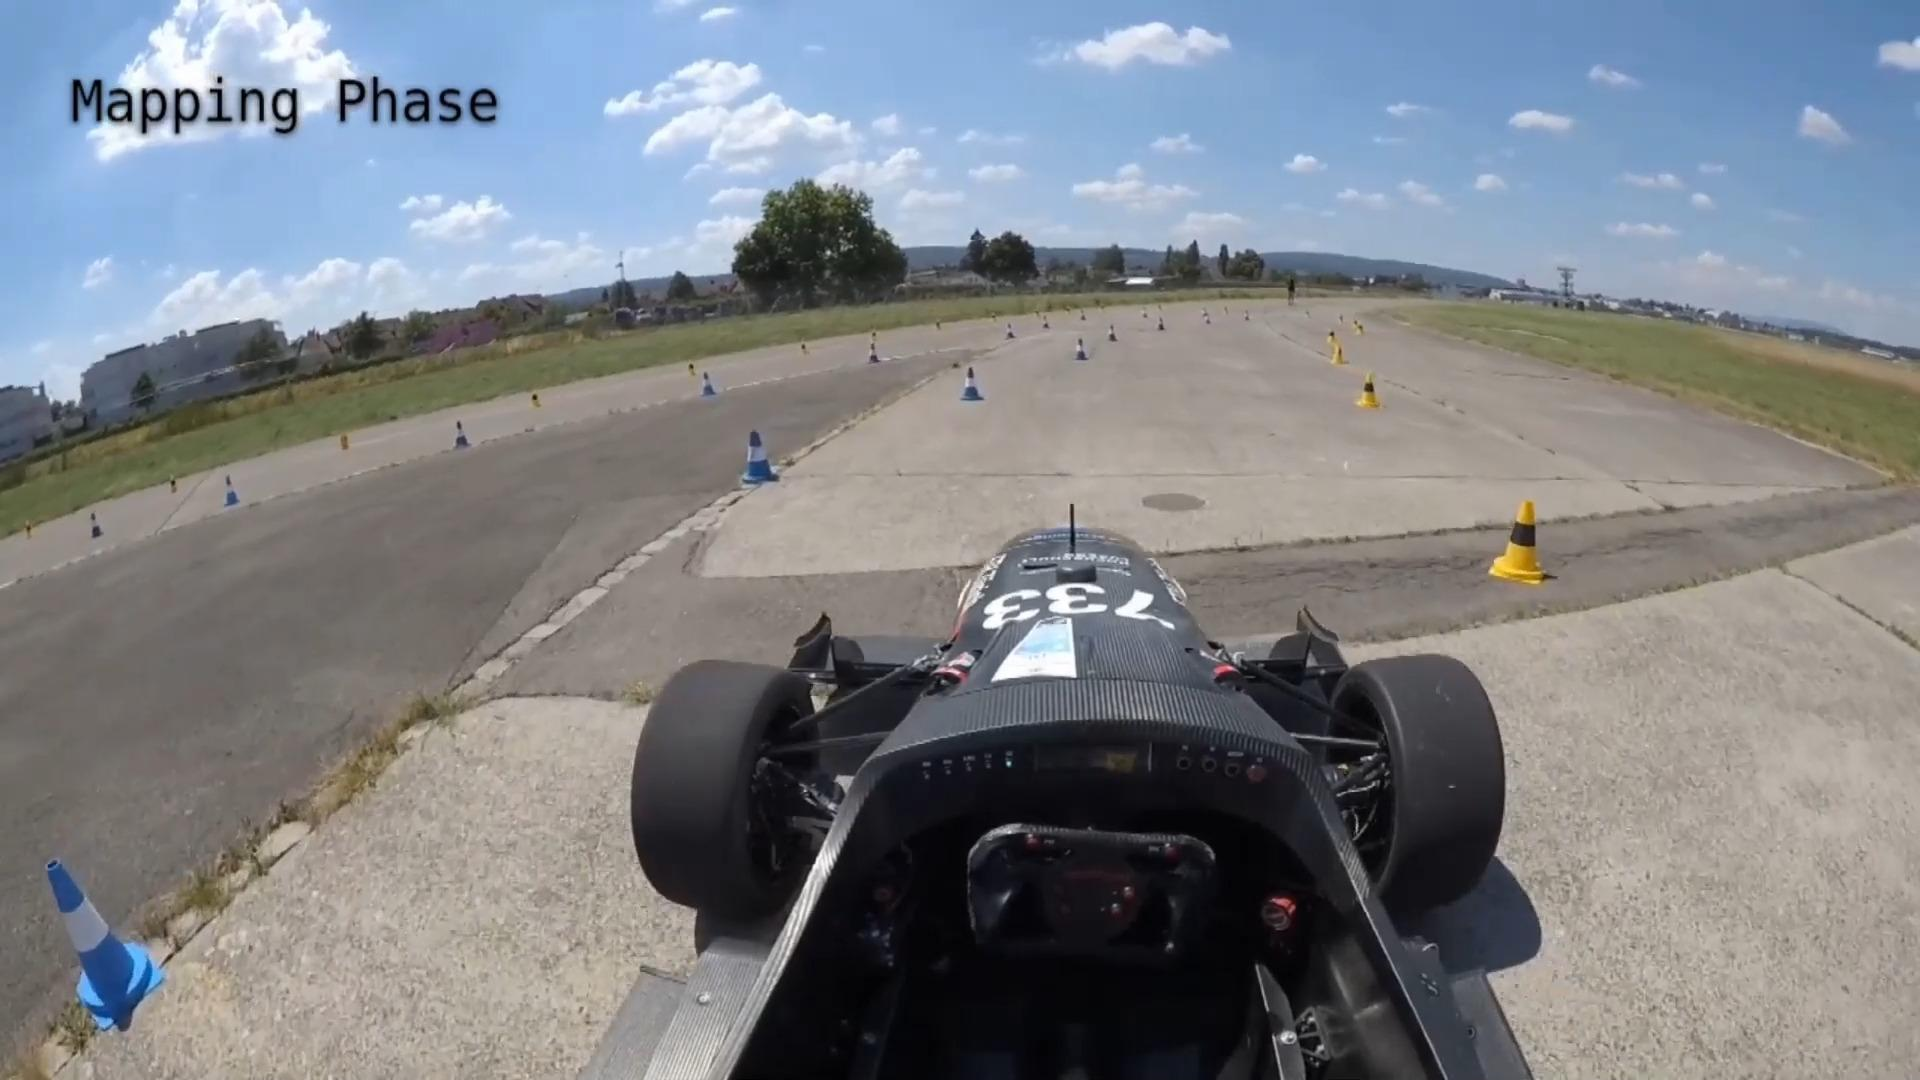blue_cone: (32, 855, 162, 1010), (735, 425, 783, 488), (957, 359, 988, 407), (1067, 327, 1091, 359)
yellow_cone: (1482, 491, 1567, 604), (1344, 361, 1386, 407)
